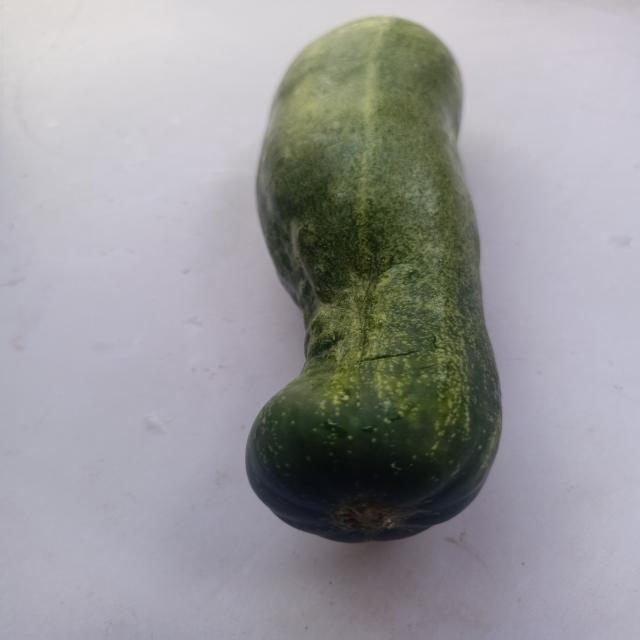Cucumber: (231, 3, 517, 572)
